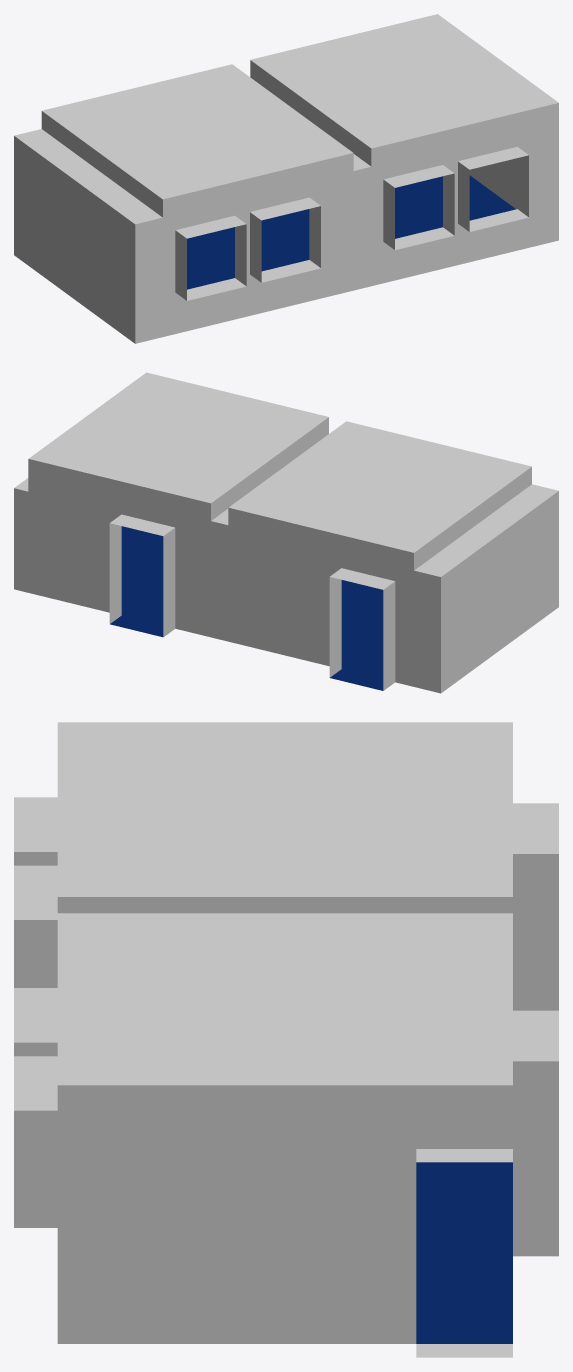
File: patro2-A704.fbx
The picture shows the model from 3 angles, top to bottom: view 1: azimuth 30°, elevation 25°; view 2: azimuth 150°, elevation 25°; view 3: azimuth 270°, elevation 25°; orthographic projection. The views are drawn at different scales.
Parts seen in each view (by area): view 1: A704.Top, A704.Front, A704.Left, A704.Bottom, A704.Right; view 2: A704.Top, A704.Back, A704.Left, A704.Bottom, A704.Right; view 3: A704.Top, A704.Right, A704.Bottom.
Boxes of the visible parts, bbox=[...] form: A704.Top: bbox=[14, 14, 558, 238]; A704.Front: bbox=[135, 103, 558, 343]; A704.Left: bbox=[14, 60, 469, 343]; A704.Bottom: bbox=[187, 175, 528, 300]; A704.Right: bbox=[235, 155, 528, 286]; A704.Top: bbox=[14, 372, 558, 589]; A704.Back: bbox=[14, 459, 440, 693]; A704.Left: bbox=[163, 417, 558, 693]; A704.Bottom: bbox=[110, 526, 383, 690]; A704.Right: bbox=[109, 523, 341, 677]; A704.Top: bbox=[14, 722, 558, 1162]; A704.Right: bbox=[14, 852, 558, 1343]; A704.Bottom: bbox=[416, 1162, 512, 1357].
Bounding box in the file's own units: 883 × 265 × 506.
